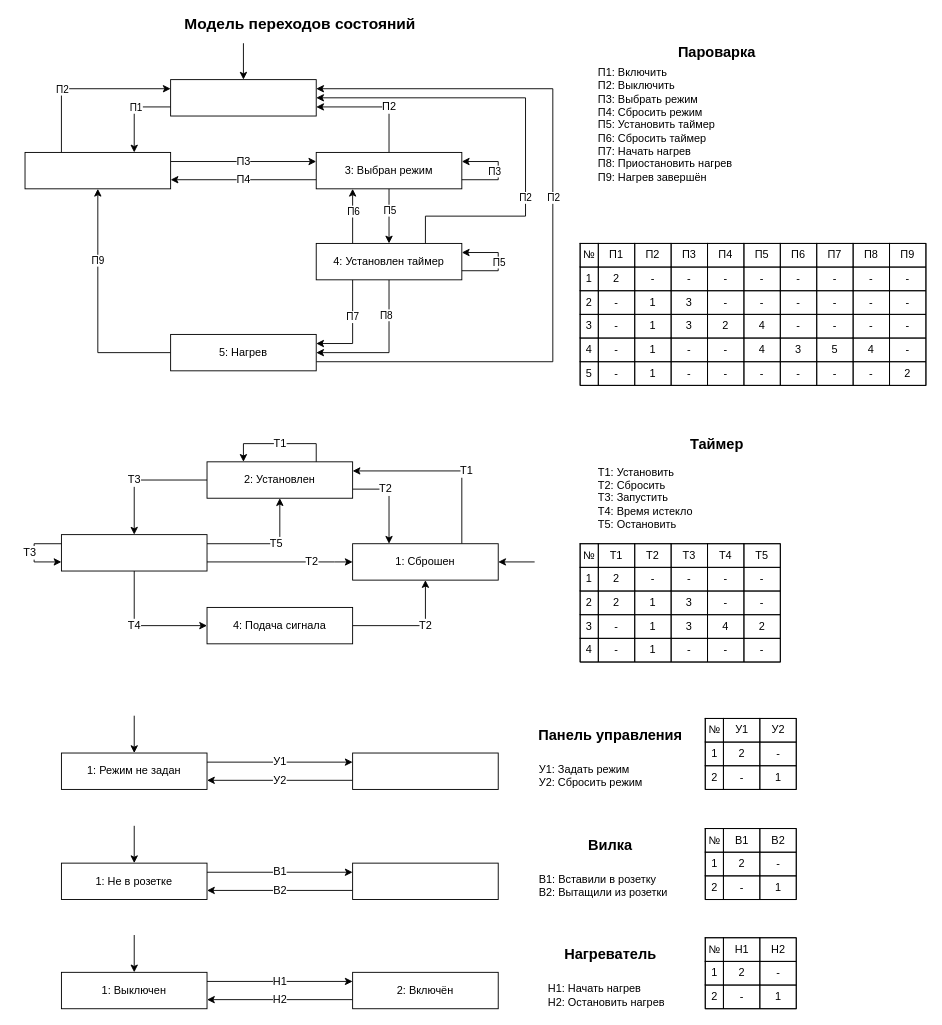
Some shapes in this 942 by 1025 pixel diagram are drawn without their labels. Here are the shapes that lost their labels. From the top down, the centre of each, then its label:
the point at 243,97: 1: Выключена
the point at 97,170: 2: Режим ожидания
the point at 134,552: 3: Отсчёт времени
the point at 425,770: 2: Режим задан
the point at 425,881: 2: В розетке
